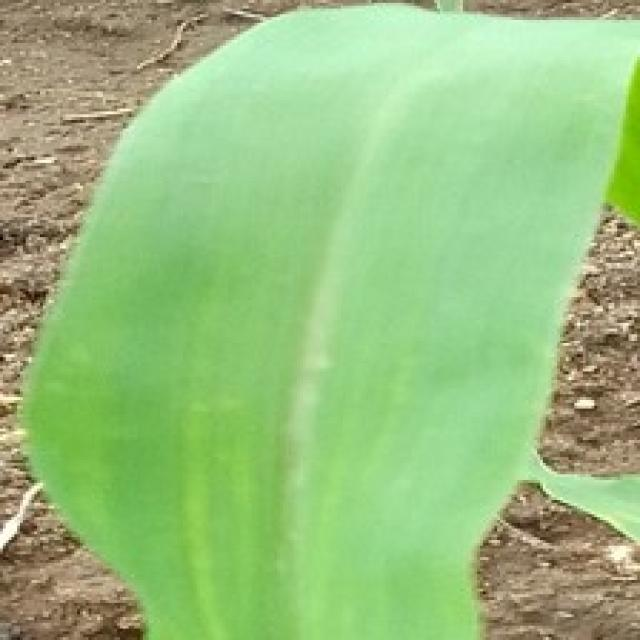Corn: (17, 0, 637, 637)
